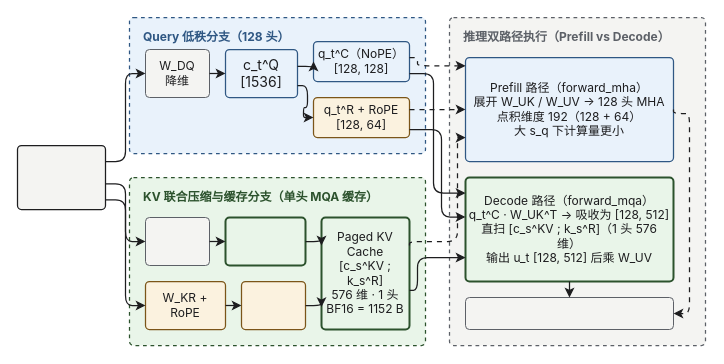
This 724x364 diagram has some shape labels left out. The shapes that lost their labels are listed below. From the top down, each one's centre as x and y in pixels, then its label:
point (61, 177): 输入隐状态 h_t [B, 7168]
point (177, 241): W_DKV + Norm
point (265, 241): c_t^KV [512]
point (273, 305): k_t^R [64]
point (569, 313): 合并多头 → W_O 输出投影
